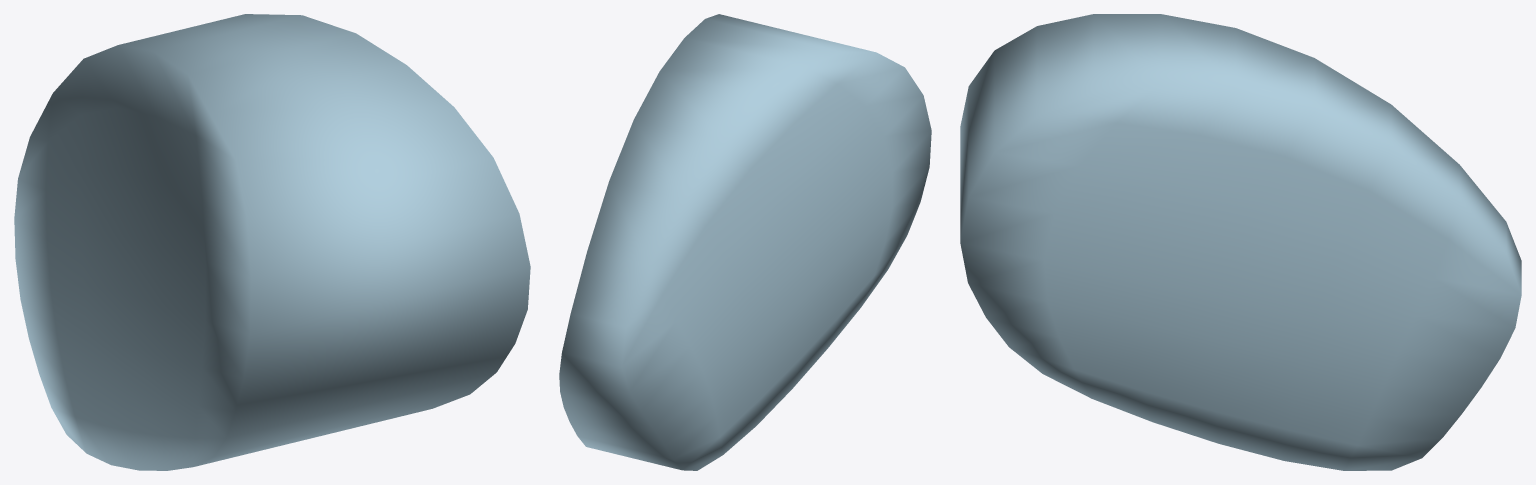
File: articulacoes-interpubic-disc.glb
3 renders of one model, left to right at view 1: azimuth 30°, elevation 25°; view 2: azimuth 150°, elevation 25°; view 3: azimuth 270°, elevation 25°, orthographic. The views are drawn at different scales.
Parts seen in each view (by area): view 1: Interpubic disc; view 2: Interpubic disc; view 3: Interpubic disc.
Boxes of the visible parts, left/top/right/bottom form: Interpubic disc: left=14, top=14, right=530, bottom=470; Interpubic disc: left=559, top=14, right=931, bottom=470; Interpubic disc: left=960, top=14, right=1521, bottom=470.
Size of the model in its own units: 0.00925 by 0.0144 by 0.0187.
